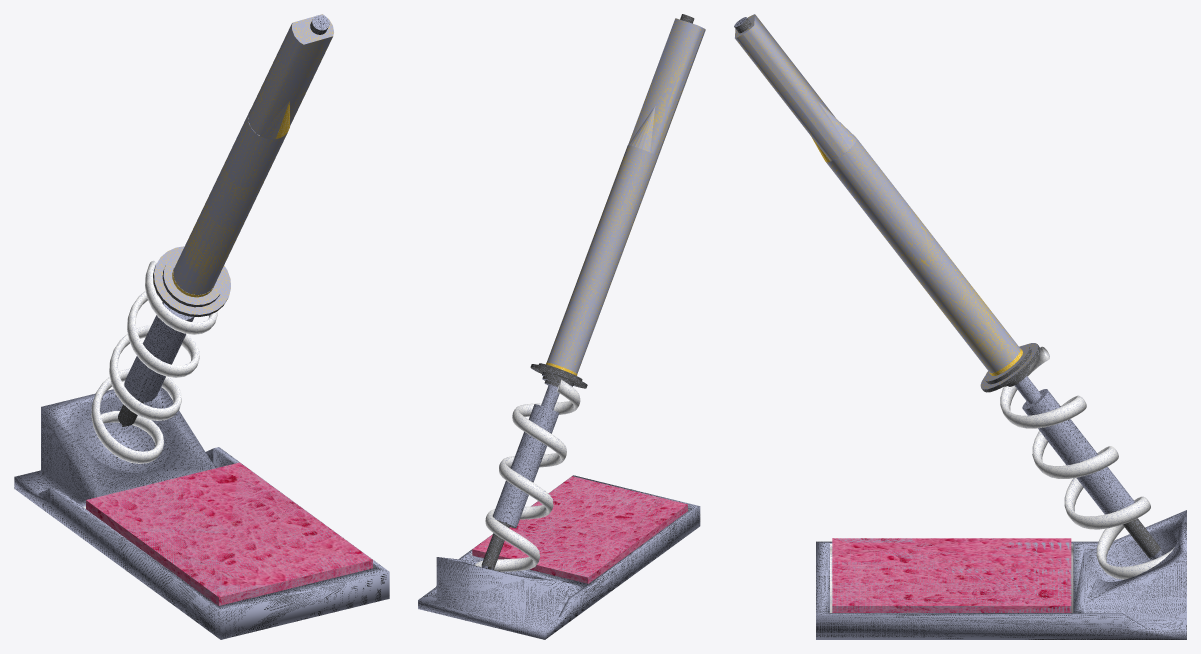
Rendered from SolderingIron.fbx.
3 views of the same model, side by side, from view 1: azimuth 30°, elevation 25°; view 2: azimuth 150°, elevation 25°; view 3: azimuth 270°, elevation 25° (orthographic). The views are drawn at different scales.
Visible parts, largest first — view 1: SolderingIronBase1, Random_Sponge1, SolderingIronTool1, Spring1; view 2: SolderingIronTool1, SolderingIronBase1, Random_Sponge1, Spring1; view 3: SolderingIronTool1, SolderingIronBase1, Random_Sponge1, Spring1.
Part boxes in pixels (<box>): SolderingIronBase1: <box>14,387,389,639</box>; Random_Sponge1: <box>86,462,372,605</box>; SolderingIronTool1: <box>118,14,333,426</box>; Spring1: <box>91,260,217,463</box>; SolderingIronTool1: <box>481,14,705,569</box>; SolderingIronBase1: <box>418,475,700,639</box>; Random_Sponge1: <box>472,476,687,583</box>; Spring1: <box>474,379,580,571</box>; SolderingIronTool1: <box>734,14,1162,559</box>; SolderingIronBase1: <box>816,510,1186,639</box>; Random_Sponge1: <box>832,538,1071,612</box>; Spring1: <box>1000,346,1174,579</box>.
Size of the model in its own units: 0.59 by 2.13 by 1.53.
Materials: 8 (1 with a texture image).
